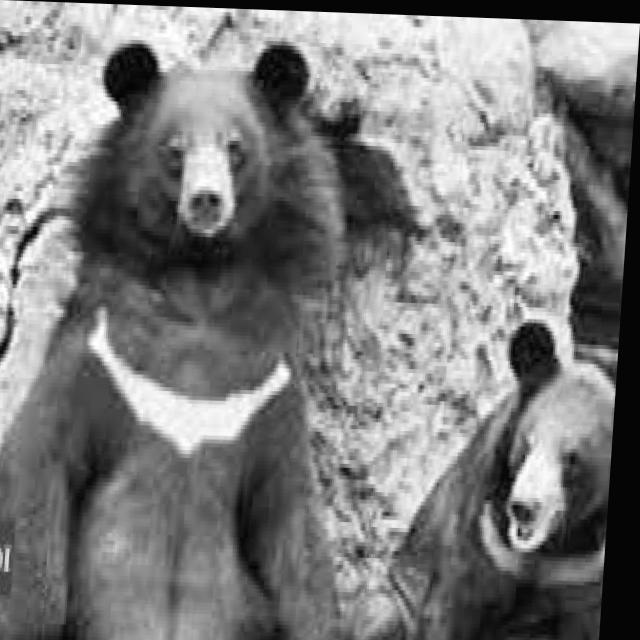Bear: (0, 32, 380, 640), (350, 299, 620, 640)
